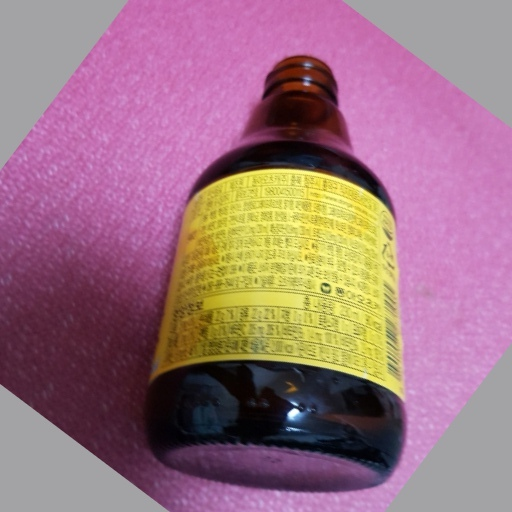Glass_3: (149, 53, 405, 496)
